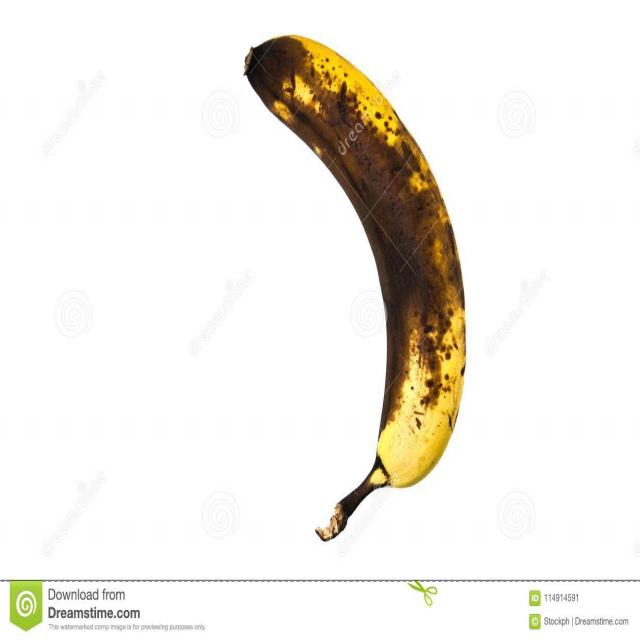Banana: (245, 35, 468, 547)
